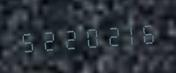five: (17, 24, 36, 56)
one: (117, 17, 136, 49)
six: (137, 16, 156, 48)
two: (37, 23, 56, 55), (57, 22, 76, 53), (97, 19, 116, 50)
zero: (77, 20, 96, 52)
